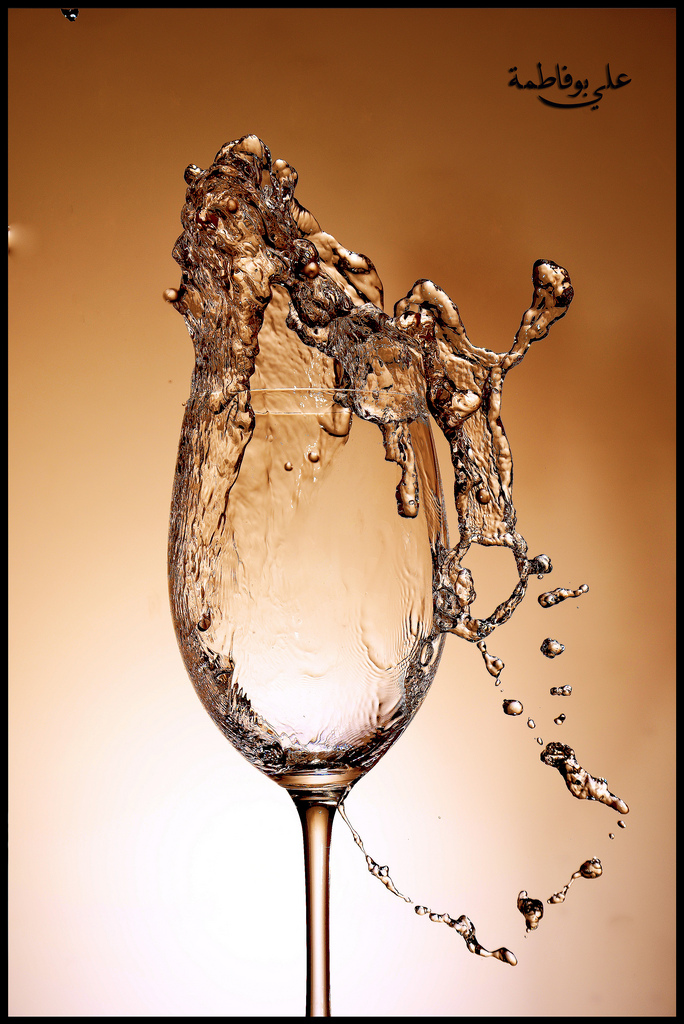glass of water: (162, 369, 453, 1024)
